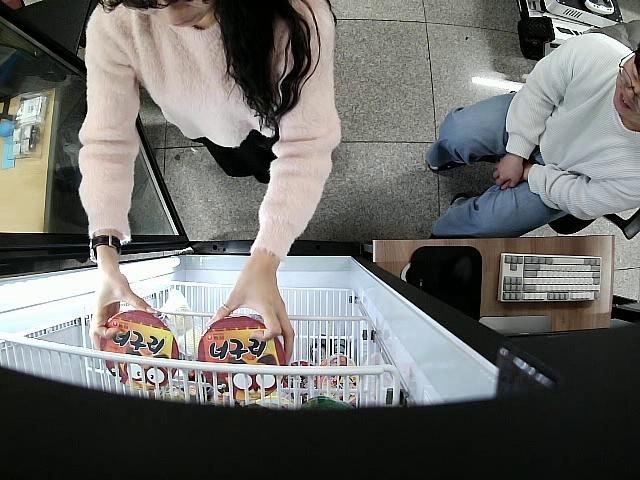00_hand: (203, 271, 296, 364), (87, 274, 157, 354)
05_nuguri_L: (199, 315, 285, 397), (99, 311, 176, 389)
